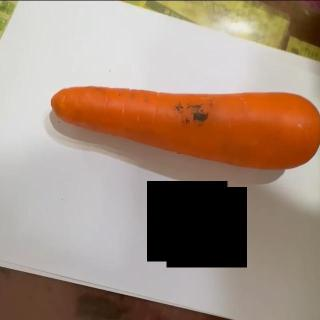carrot: (47, 84, 320, 170)
